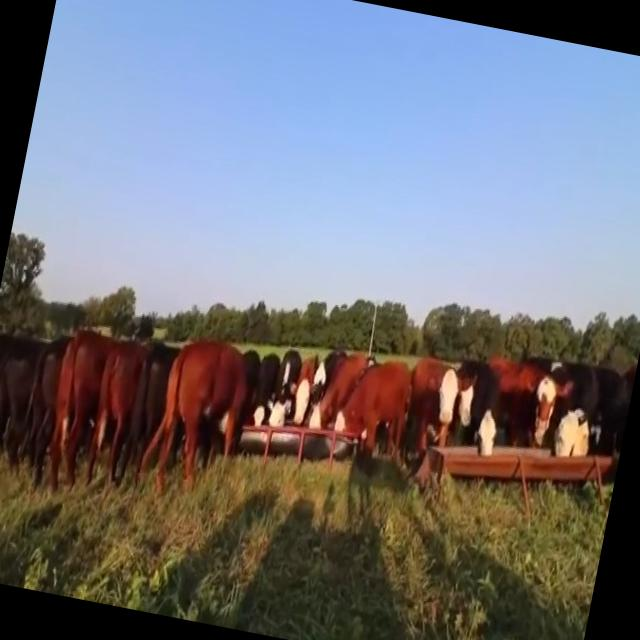cow: (310, 353, 557, 459), (138, 340, 261, 490), (49, 331, 150, 489)
